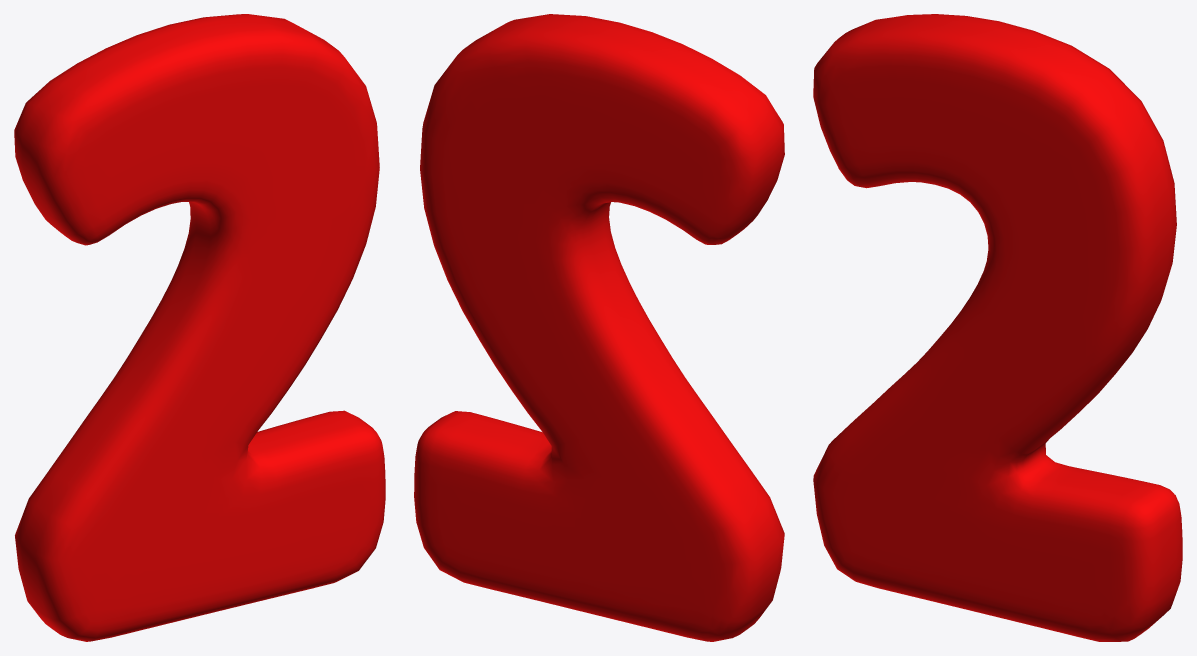
3 views of the same model, side by side, from view 1: azimuth 30°, elevation 25°; view 2: azimuth 150°, elevation 25°; view 3: azimuth 330°, elevation 25° (orthographic).
Parts seen in each view (by area): view 1: 2; view 2: 2; view 3: 2.
Boxes of the visible parts, <box> form: 2: <box>14,14,385,641</box>; 2: <box>414,14,784,641</box>; 2: <box>813,14,1182,641</box>.
Size of the model in its own units: 89.53 by 142 by 20.
